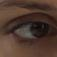eye: (31, 24, 48, 37)
